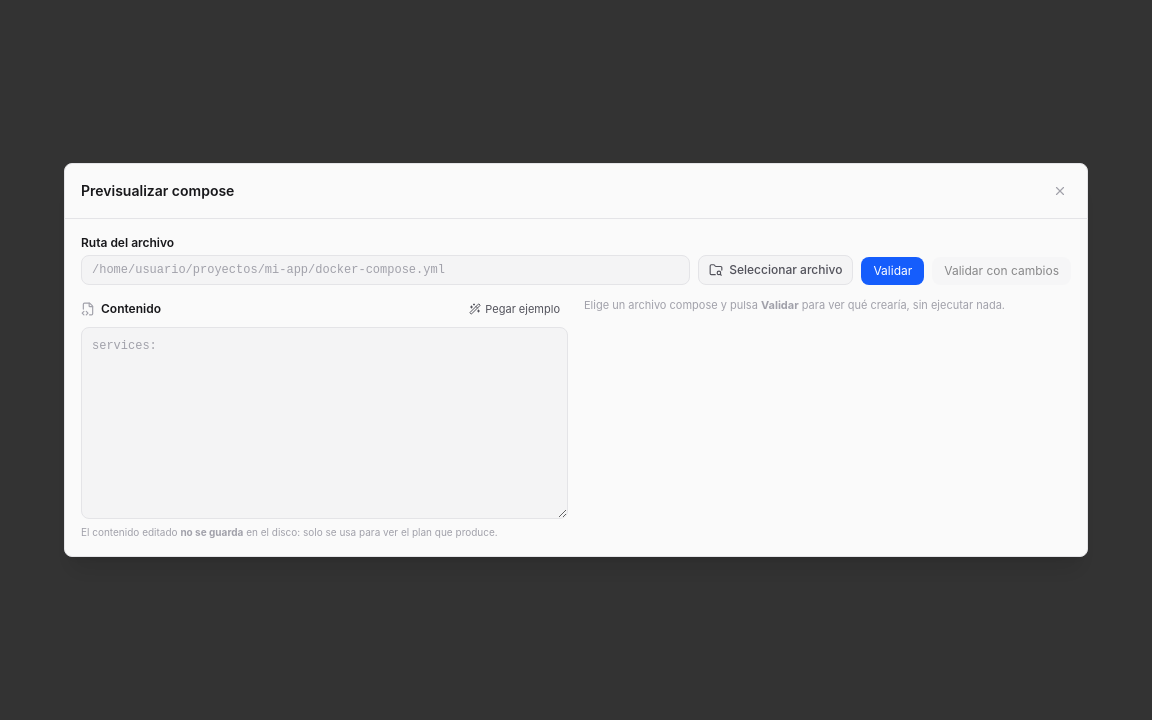
ComposePlanModal › distingue lo que ya existe de lo que se crearía
The image size is (1152, 720).
Type "/p/docker-compose.yml" into the field labelled "Ruta del archivo" at point(386, 270), box [81,255,690,285]
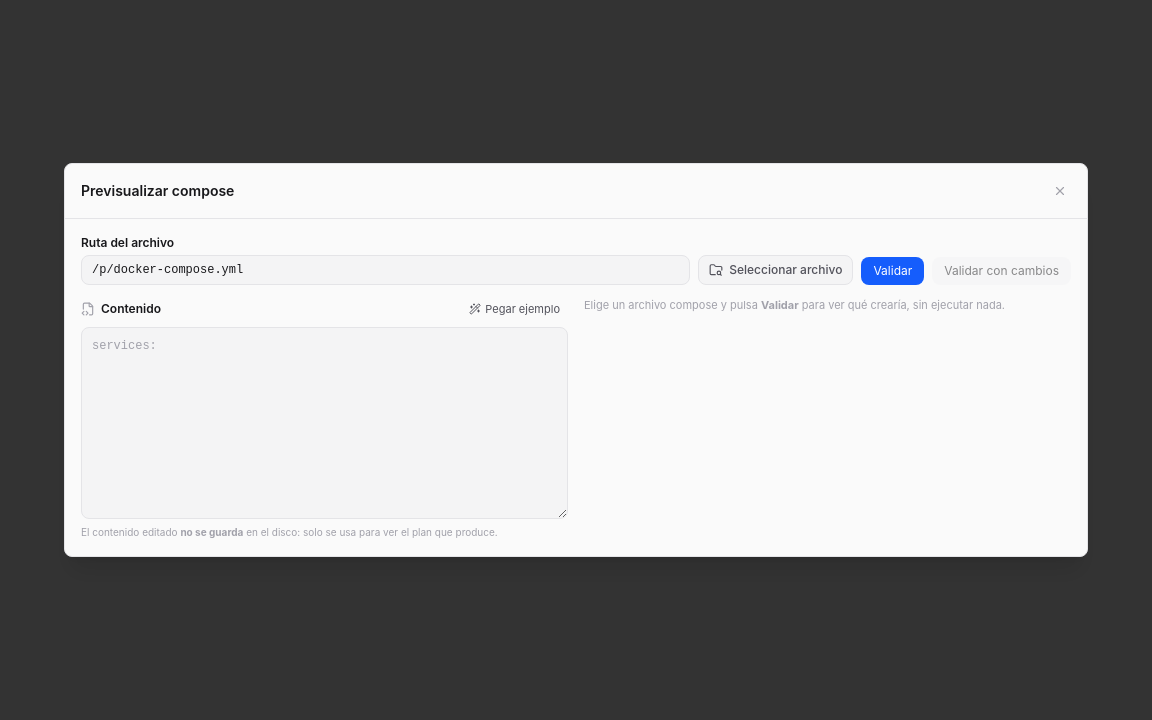
Click the button "Validar" at point(893, 271), box [861,257,924,285]
(page scrolled)
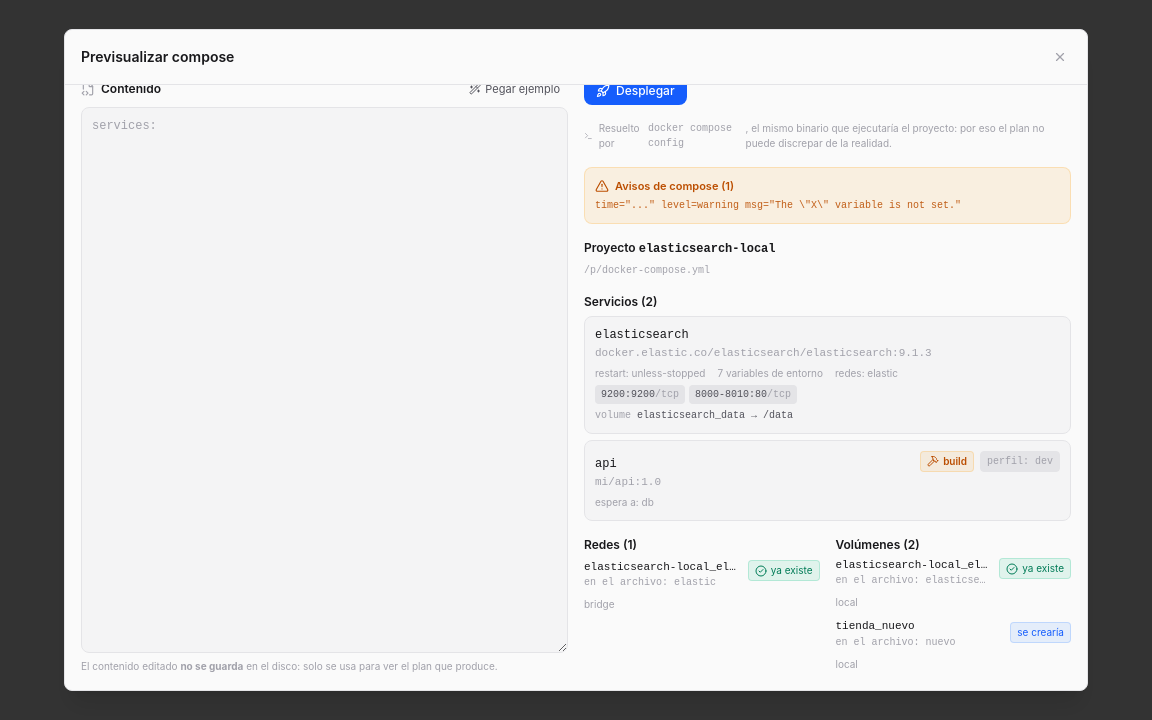
Expected: the element with test id "compose-plan" is shown, [584,85,1071,674]
Expected: the list item with test id "volume-logical-elasticsearch_data" shows "ya existe", [1022,562,1064,574]
Expected: the list item with test id "volume-logical-nuevo" shows "se crearía", [1017,626,1064,638]
